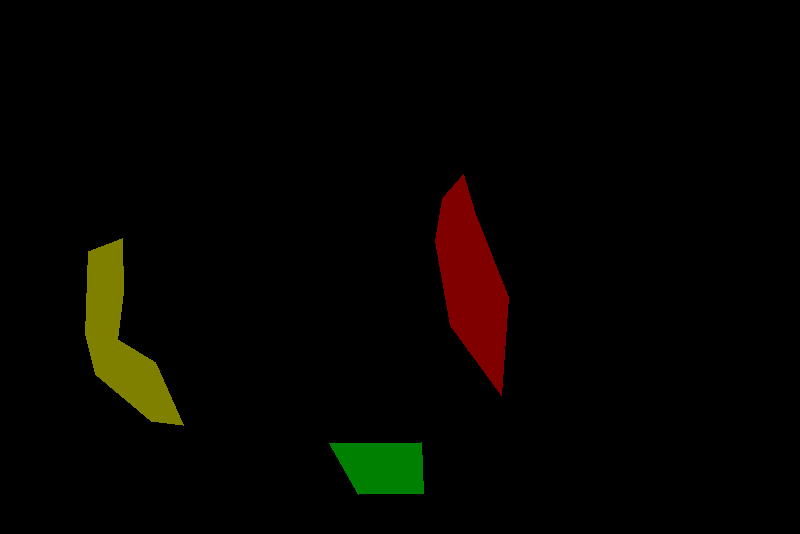fire: (85, 238, 183, 425), (435, 174, 508, 395), (329, 442, 423, 494)
